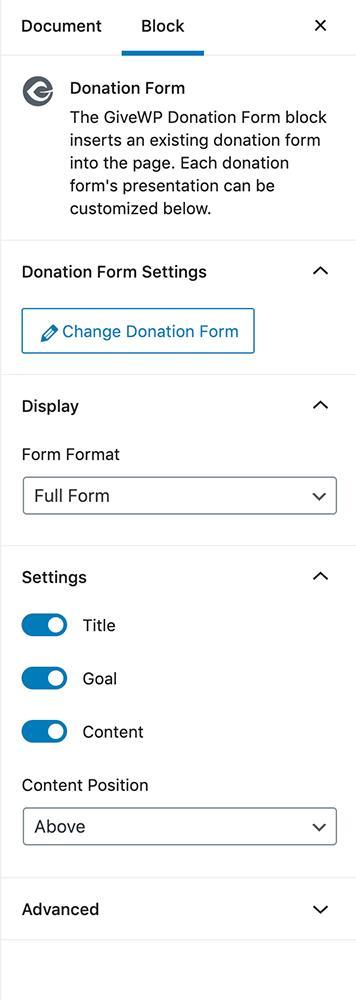button: (21, 307, 255, 354), (2, 1, 123, 57), (124, 1, 206, 58)
dropdown: (24, 476, 339, 517), (24, 808, 338, 847)
label: (17, 258, 215, 288), (19, 773, 155, 802), (17, 896, 110, 928), (17, 443, 129, 469), (18, 561, 100, 594), (81, 720, 154, 746), (18, 395, 88, 420), (81, 612, 124, 642), (81, 667, 119, 689)
switch: (23, 613, 69, 640), (23, 665, 68, 692), (21, 720, 67, 743)
